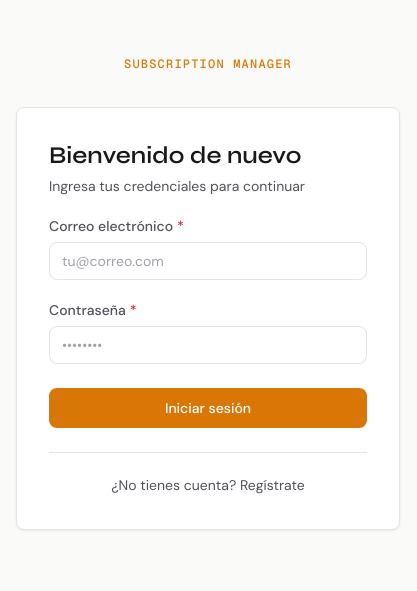
Test: LoginPage › shows error message when login fails
This screenshot has width=417, height=591.
Type "bad@test.com" into the field labelled "Correo electrónico*" at (208, 260), box [49,242,367,280]
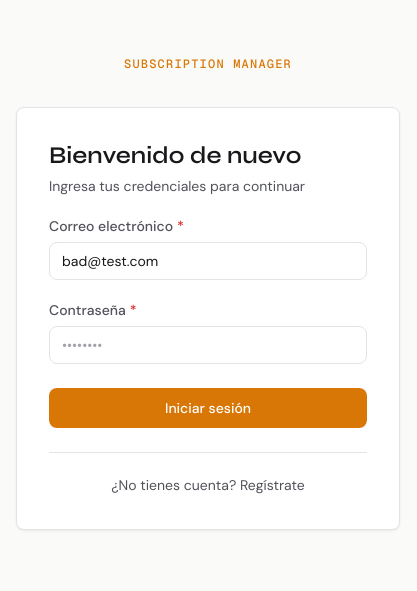
Type "wrongpass" into the password field labelled "Contraseña*" at (208, 344), box [49,326,367,364]
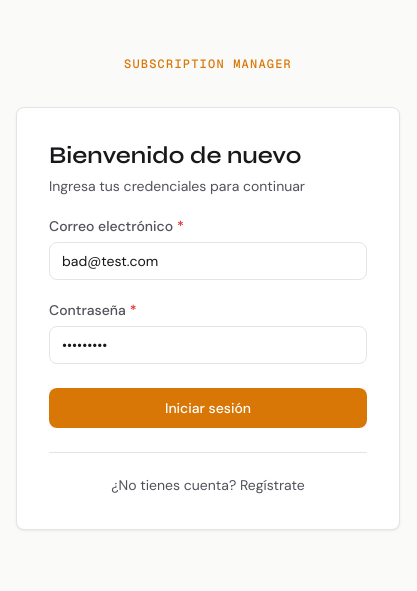
Click the button "Iniciar sesión" at (208, 408), box [49,388,367,428]
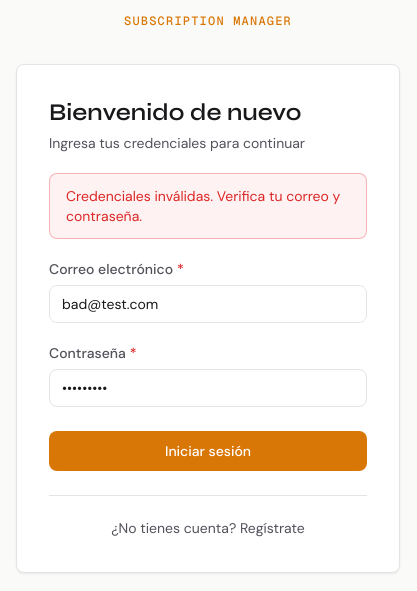
Now the message shows "Credenciales inválidas", box [66,186,340,224]
